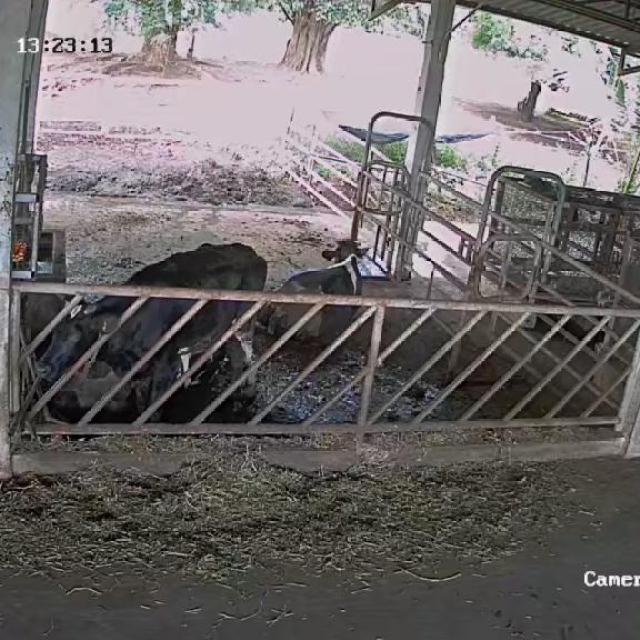lying down: (276, 240, 370, 350)
standing: (14, 238, 270, 411)
